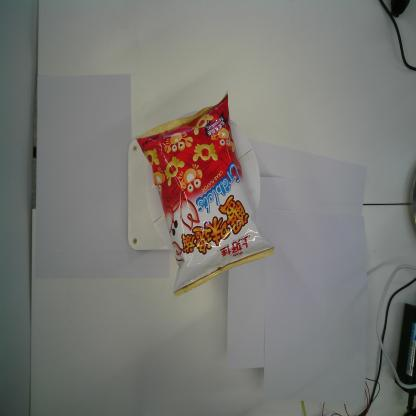Puffed Food: (135, 92, 276, 296)
